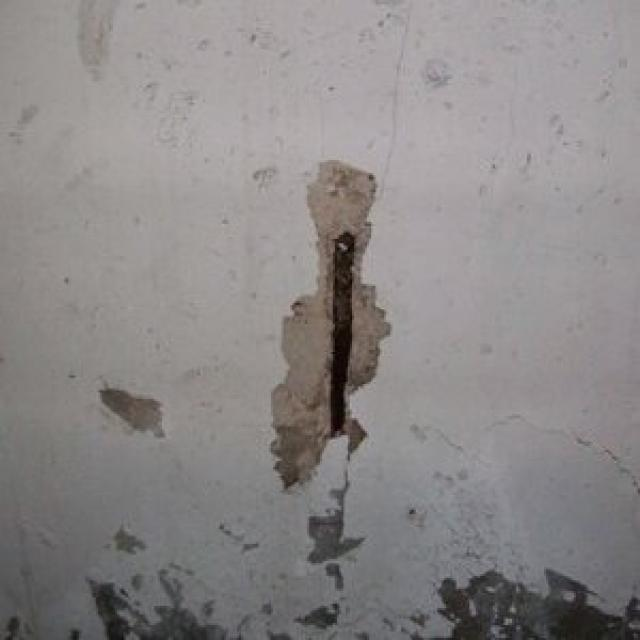spalling: (271, 161, 389, 485)
stain_mould: (330, 231, 355, 435)
